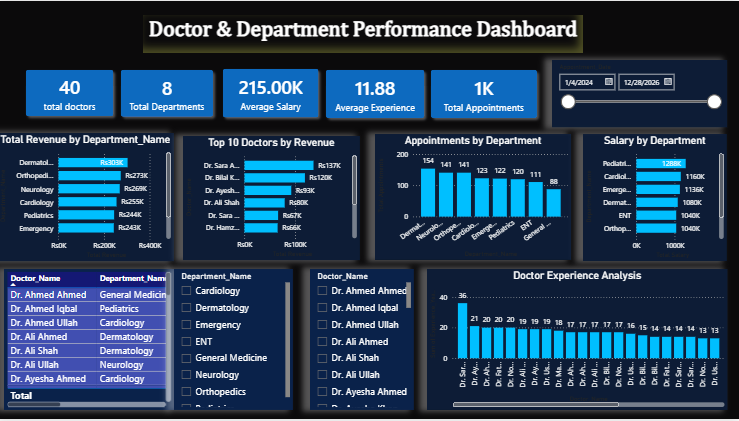

Layout of this report page (visuals, bound fields, positions):
{"tool":"powerbi","page":{"name":"Doctor & Department Performances","canvas":[1280,720],"ordinal":2},"visuals":[{"type":"textbox","box":[252.4,23.8,758.7,65.1],"z":0},{"type":"cardVisual","fields":{"Data":["Measures (2).total doctors"]},"box":[20.6,88.9,209.5,138.1],"z":1000},{"type":"cardVisual","fields":{"Data":["Measures (2).Total Departments"]},"box":[184.1,88.9,217.5,139.7],"z":2000},{"type":"cardVisual","fields":{"Data":["Measures (2).Average Salary"]},"box":[360.3,87.3,223.8,142.9],"z":3000},{"type":"cardVisual","fields":{"Data":["Measures (2).Average Experience"]},"box":[538.1,88.9,228.6,141.3],"z":4000},{"type":"cardVisual","fields":{"Data":["Measures (2).Total Appointments"]},"box":[719,88.9,241.3,141.3],"z":5000},{"type":"clusteredBarChart","fields":{"Category":["department.Department_Name"],"Y":["Measures (2).Total Revenue"]},"box":[0,227,304.8,220.6],"z":6000},{"type":"clusteredBarChart","title":"Top 10 Doctors by Revenue","fields":{"Category":["doctors.Doctor_Name"],"Y":["Measures (2).Total Revenue"]},"box":[320.6,233.3,304.8,214.3],"z":7000},{"type":"clusteredColumnChart","title":"Appointments by Department","fields":{"Category":["department.Department_Name"],"Y":["Measures (2).Total Appointments"]},"box":[652.4,230.2,338.1,217.5],"z":8000},{"type":"clusteredColumnChart","title":"Doctor Experience Analysis","fields":{"Category":["doctors.Doctor_Name"],"Y":["Sum(doctors.Experience_Years)"]},"box":[741.1,462.5,517.9,242.9],"z":9000},{"type":"clusteredBarChart","title":"Salary by Department","fields":{"Category":["department.Department_Name"],"Y":["Measures (2).Total Salary"]},"box":[1011.1,228.6,247.6,219],"z":10000},{"type":"tableEx","title":"Doctor Performance Summary","fields":{"Values":["doctors.Doctor_Name","department.Department_Name","Sum(doctors.Experience_Years)","Sum(doctors.Salary)","Measures (2).Total Appointments","Measures (2).Total Revenue"]},"box":[12.5,462.5,292.9,242.9],"z":11000},{"type":"slicer","fields":{"Values":["department.Department_Name"]},"box":[304.8,461.9,204.8,242.9],"z":12000},{"type":"slicer","fields":{"Values":["doctors.Doctor_Name"]},"box":[539.7,461.9,179.4,242.9],"z":13000},{"type":"slicer","fields":{"Values":["appointments.Appointment_Date"]},"box":[957.1,101.6,301.6,115.9],"z":14000}]}

Visuals, with their boxes in screenshot pixels (x1, y1, x2, y2), scaled from the page's 1280x720 canvas onto the 739x421 screenshot:
textbox: (x1=146, y1=14, x2=584, y2=52)
cardVisual - Measures (2).total doctors: (x1=12, y1=52, x2=133, y2=133)
cardVisual - Measures (2).Total Departments: (x1=106, y1=52, x2=232, y2=134)
cardVisual - Measures (2).Average Salary: (x1=208, y1=51, x2=337, y2=135)
cardVisual - Measures (2).Average Experience: (x1=311, y1=52, x2=443, y2=135)
cardVisual - Measures (2).Total Appointments: (x1=415, y1=52, x2=554, y2=135)
clusteredBarChart - department.Department_Name x Measures (2).Total Revenue: (x1=0, y1=133, x2=176, y2=262)
"Top 10 Doctors by Revenue" clusteredBarChart: (x1=185, y1=136, x2=361, y2=262)
"Appointments by Department" clusteredColumnChart: (x1=377, y1=135, x2=572, y2=262)
"Doctor Experience Analysis" clusteredColumnChart: (x1=428, y1=270, x2=727, y2=412)
"Salary by Department" clusteredBarChart: (x1=584, y1=134, x2=727, y2=262)
"Doctor Performance Summary" tableEx: (x1=7, y1=270, x2=176, y2=412)
slicer - department.Department_Name: (x1=176, y1=270, x2=294, y2=412)
slicer - doctors.Doctor_Name: (x1=312, y1=270, x2=415, y2=412)
slicer - appointments.Appointment_Date: (x1=553, y1=59, x2=727, y2=127)
